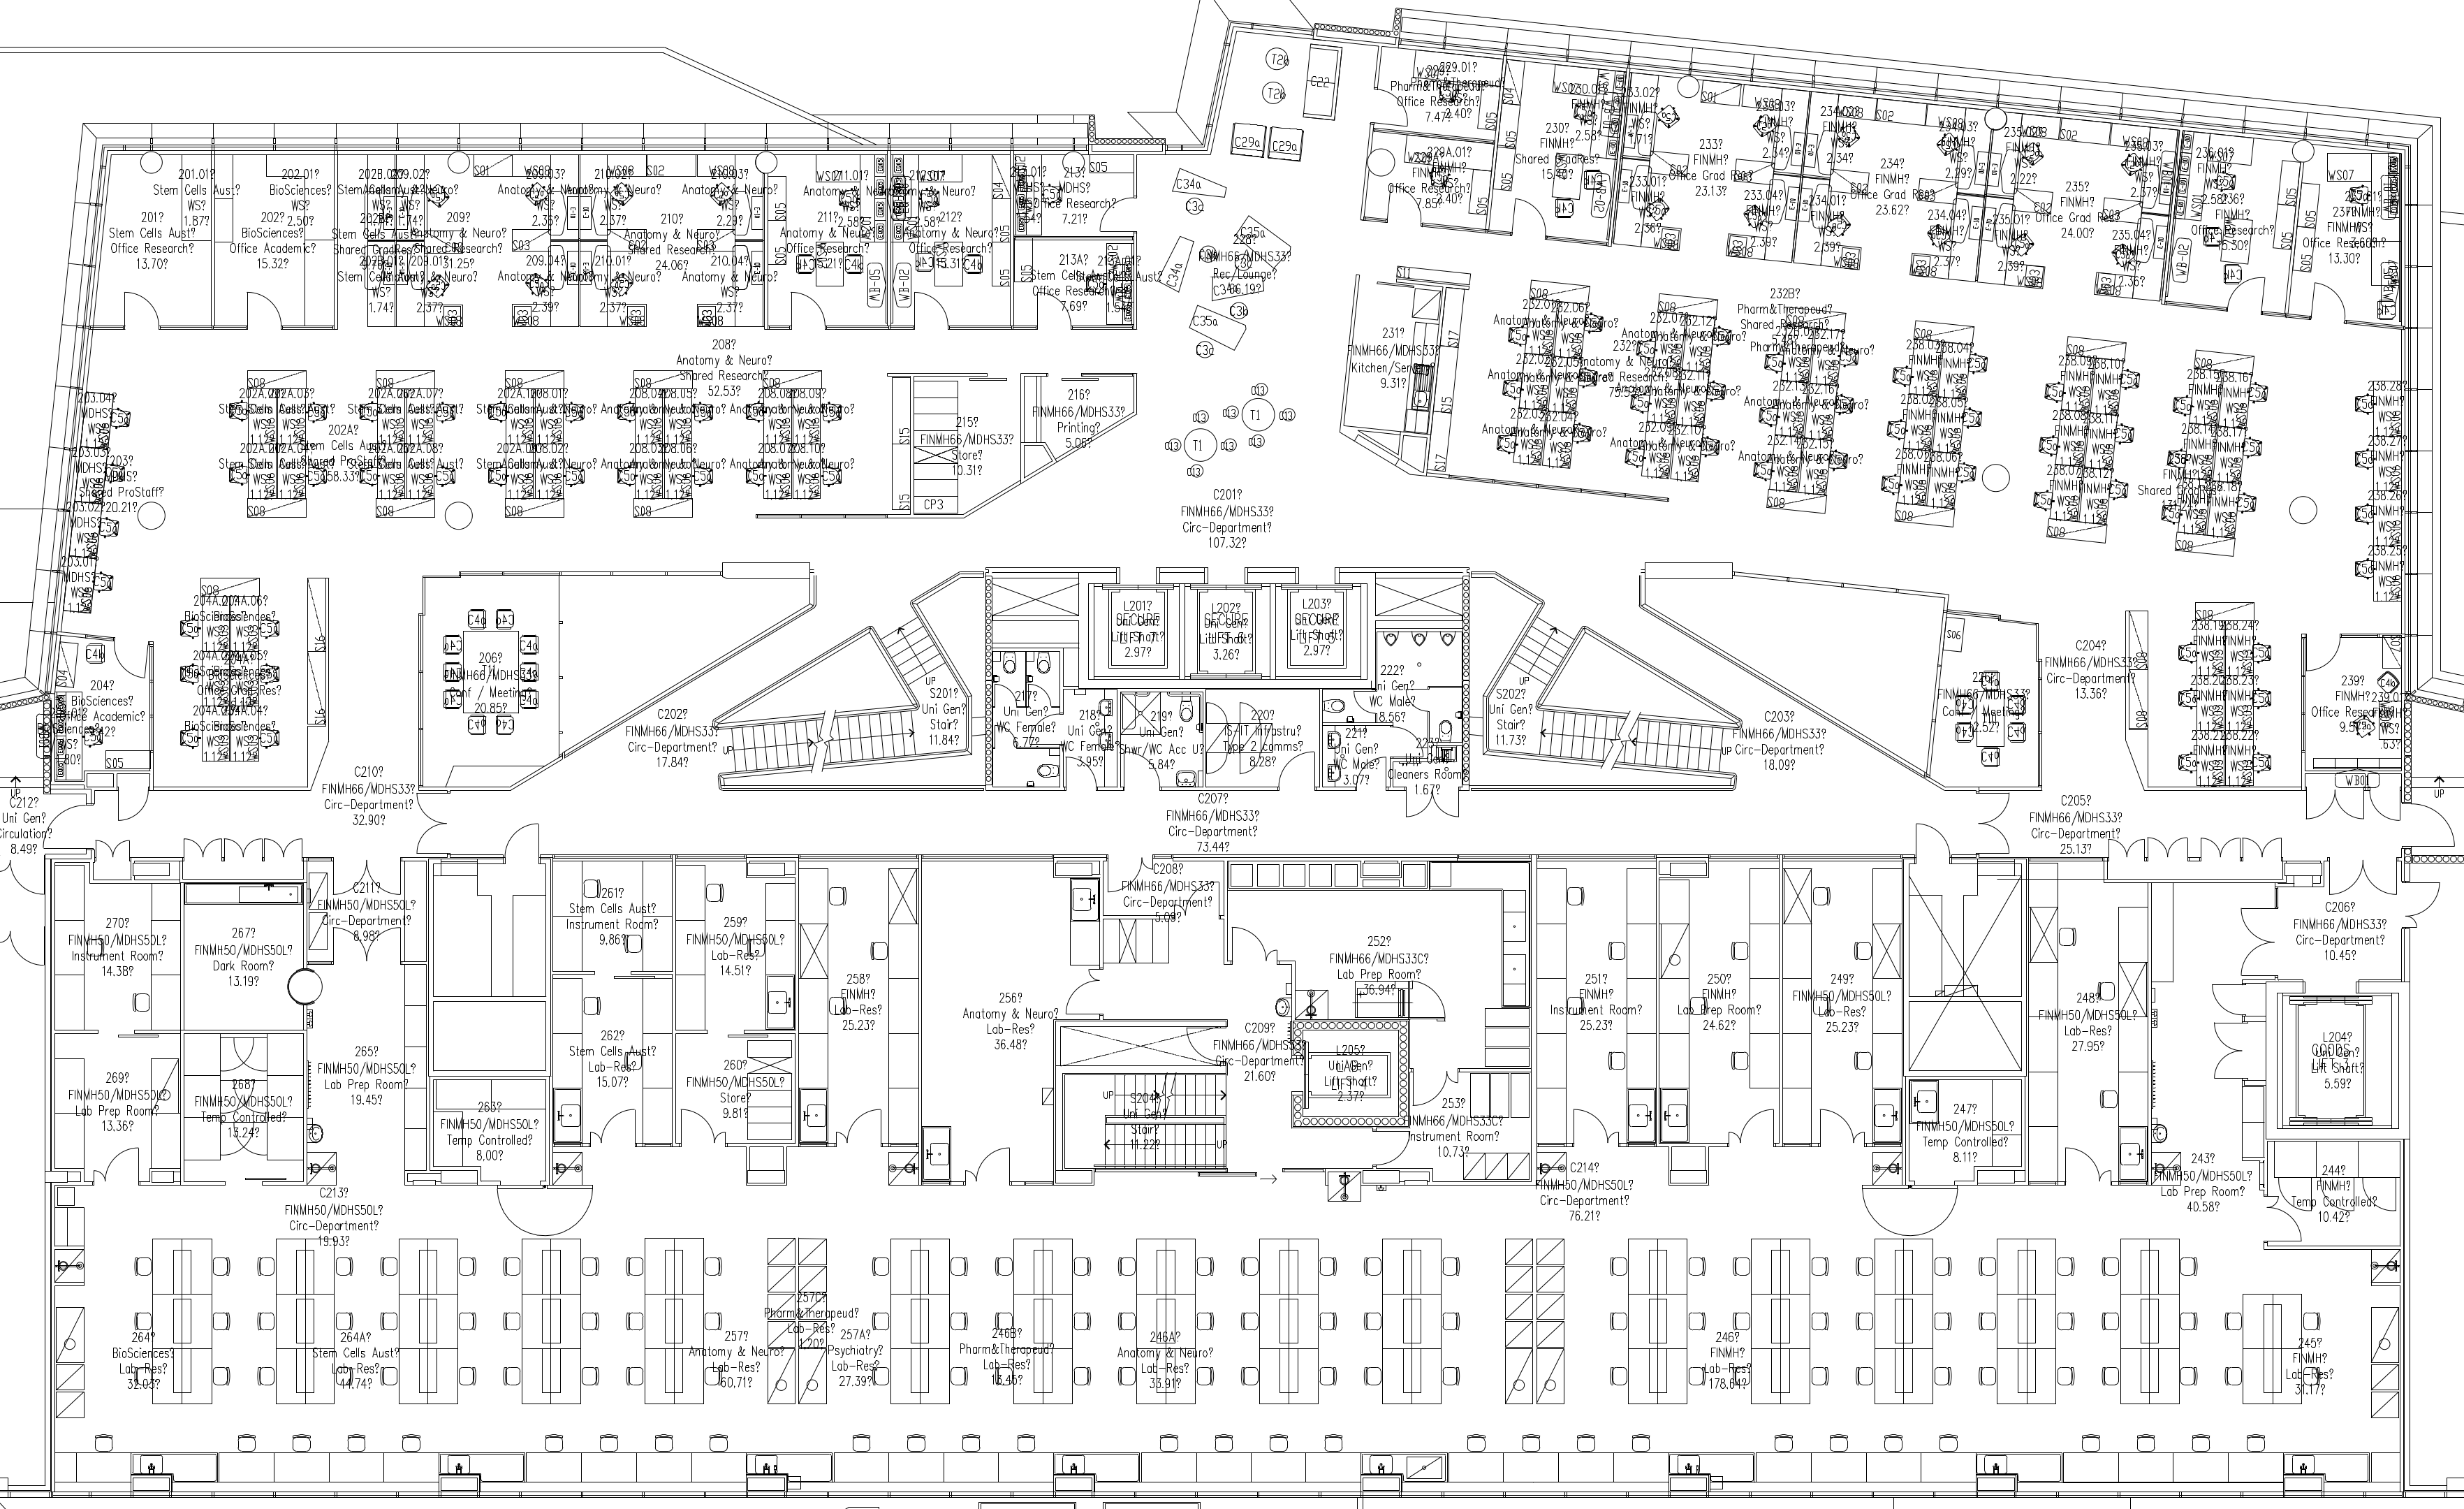door: (331, 852, 403, 898), (331, 924, 403, 968), (2233, 905, 2277, 977), (2325, 861, 2399, 896), (412, 792, 452, 856), (2411, 801, 2457, 852), (92, 1143, 143, 1187), (586, 1102, 637, 1146), (678, 1104, 729, 1148), (834, 1104, 885, 1148), (2302, 787, 2365, 822), (1105, 852, 1155, 896), (1061, 967, 1104, 1018), (961, 1141, 1014, 1181), (2061, 1145, 2112, 1185), (1818, 1108, 1869, 1148), (1727, 1106, 1778, 1146), (1570, 1106, 1621, 1146), (1410, 1071, 1461, 1111), (1228, 926, 1280, 967), (2401, 880, 2443, 928), (2209, 1019, 2240, 1083), (111, 634, 150, 685), (2225, 268, 2267, 312), (1412, 979, 1459, 1018), (1403, 791, 1463, 821), (2309, 278, 2350, 322), (1276, 748, 1316, 792), (503, 819, 542, 865), (1371, 83, 1410, 129), (1510, 192, 1549, 238), (1366, 1129, 1412, 1167), (1121, 748, 1162, 791), (1383, 180, 1422, 224), (2269, 1194, 2302, 1243), (241, 289, 285, 326), (1089, 197, 1133, 234), (2306, 630, 2343, 673), (120, 289, 164, 324), (783, 289, 827, 324), (908, 289, 952, 324), (1033, 289, 1077, 324), (2240, 828, 2284, 863), (2365, 787, 2404, 826), (2145, 829, 2189, 863), (2101, 829, 2145, 863), (2198, 829, 2240, 863), (114, 791, 153, 826), (1065, 754, 1100, 792), (2209, 981, 2240, 1019), (224, 835, 264, 861), (264, 835, 304, 861), (183, 836, 224, 861), (95, 835, 132, 861)
